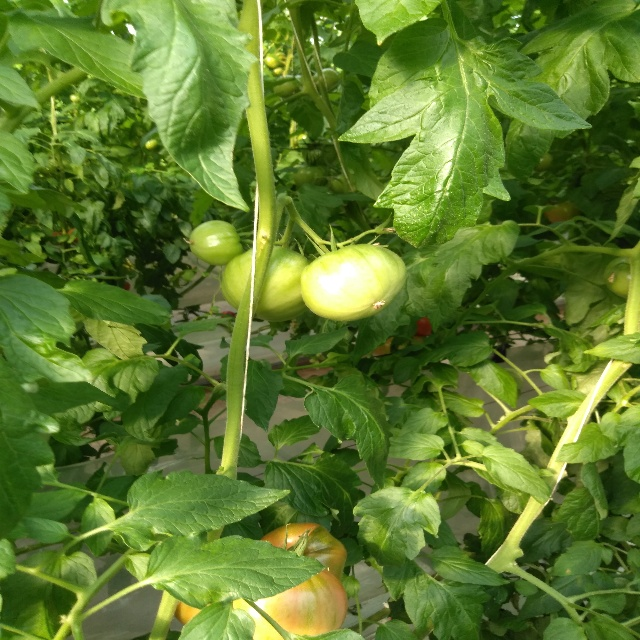b_green: (301, 243, 407, 322), (220, 245, 310, 322), (189, 220, 244, 266), (603, 257, 631, 300)
b_half_ripened: (233, 570, 348, 640), (259, 522, 348, 582)
